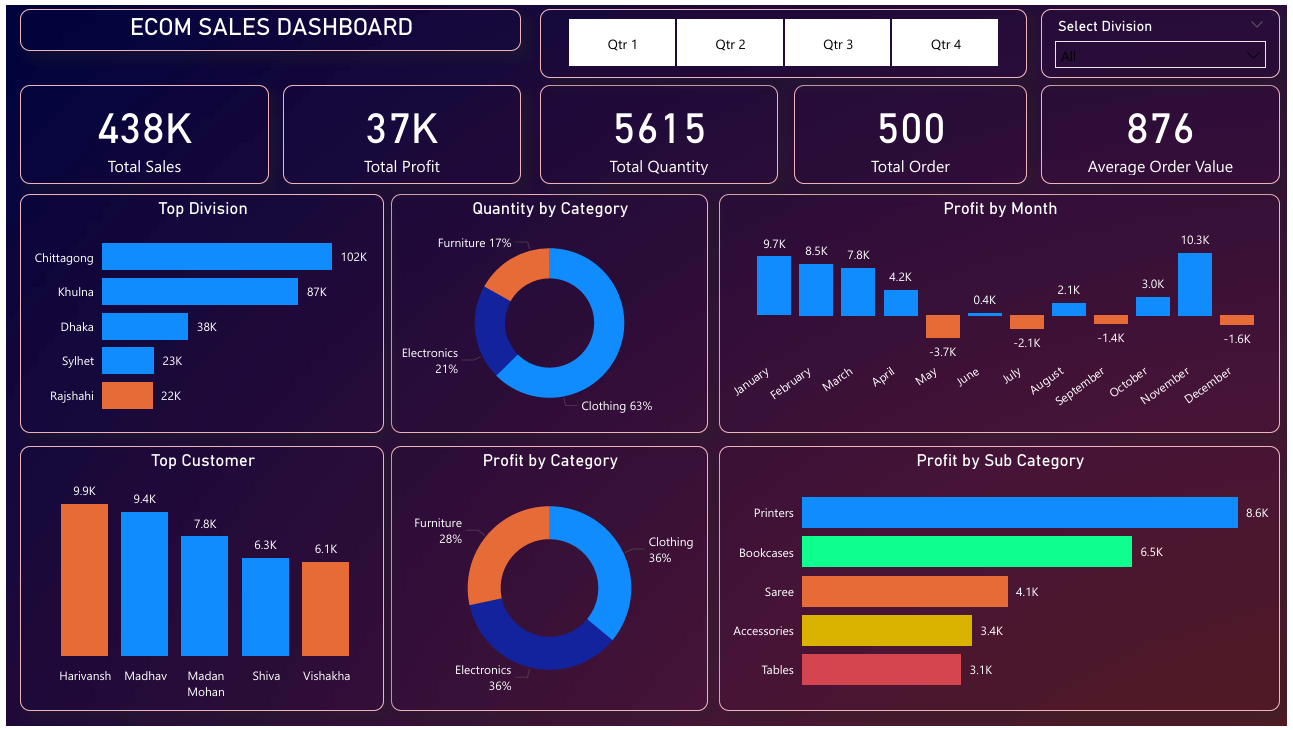

This screenshot's page, from the dashboard's own definition file:
{"tool":"powerbi","page":{"name":"Sales Dashboard","canvas":[1280,720],"ordinal":0},"visuals":[{"type":"columnChart","title":"Profit by Month","fields":{"Category":["Orders.Order Date.Variation.Date Hierarchy.Month"],"Y":["Sum(Details.Profit)"]},"box":[712,188,561.3,239.4],"z":0},{"type":"textbox","title":"ECOM SALES DASHBOARD","box":[12.6,2.9,500.9,41.8],"z":1000},{"type":"barChart","title":"Profit by Sub Category","fields":{"Category":["Details.Sub-Category"],"Y":["Sum(Details.Profit)"]},"box":[712,439.8,561.3,265.1],"z":2000},{"type":"donutChart","title":"Quantity by Category","fields":{"Category":["Details.Category"],"Y":["Sum(Details.Quantity)"]},"box":[383.9,188,317.4,239.4],"z":3000},{"type":"donutChart","title":"Profit by Category","fields":{"Category":["Details.Category"],"Y":["Sum(Details.Profit)"]},"box":[383.9,439.8,317.4,265.1],"z":4000},{"type":"card","fields":{"Values":["Sum(Details.Amount)"]},"box":[12.6,78.8,249,99.2],"z":5000},{"type":"card","fields":{"Values":["Sum(Details.Profit)"]},"box":[276.2,78.8,237.3,99.2],"z":6000},{"type":"card","fields":{"Values":["Sum(Details.Quantity)"]},"box":[533,78.8,238.3,99.2],"z":7000},{"type":"barChart","title":"Top Division","fields":{"Y":["Sum(Details.Amount)"],"Category":["Orders.Division"]},"box":[12.6,187.7,364.7,239.3],"z":8000},{"type":"columnChart","title":"Top Customer","fields":{"Y":["Sum(Details.Amount)"],"Category":["Orders.CustomerName"]},"box":[12.6,439.6,364.7,265.5],"z":9000},{"type":"card","fields":{"Values":["Count(Orders.Order ID)"]},"box":[786.9,78.8,233.4,99.2],"z":10000},{"type":"card","fields":{"Values":["_Measures.Average Order Value"]},"box":[1033.9,78.8,239.3,99.2],"z":11000},{"type":"slicer","fields":{"Values":["Orders.Order Date.Variation.Date Hierarchy.Quarter"]},"box":[533,2.9,487.3,69.1],"z":12000},{"type":"slicer","fields":{"Values":["Orders.Division"]},"box":[1033.6,2.9,239.8,68.8],"z":13000}]}

Visuals, with their boxes in screenshot pixels (x1, y1, x2, y2), scaled from the page's 1280x720 canvas onto the 1293x730 screenshot:
"Profit by Month" columnChart: [719, 191, 1286, 433]
"ECOM SALES DASHBOARD" textbox: [13, 3, 519, 45]
"Profit by Sub Category" barChart: [719, 446, 1286, 715]
"Quantity by Category" donutChart: [388, 191, 708, 433]
"Profit by Category" donutChart: [388, 446, 708, 715]
card - Sum(Details.Amount): [13, 80, 264, 180]
card - Sum(Details.Profit): [279, 80, 519, 180]
card - Sum(Details.Quantity): [538, 80, 779, 180]
"Top Division" barChart: [13, 190, 381, 433]
"Top Customer" columnChart: [13, 446, 381, 715]
card - Count(Orders.Order ID): [795, 80, 1031, 180]
card - _Measures.Average Order Value: [1044, 80, 1286, 180]
slicer - Orders.Order Date.Variation.Date Hierarchy.Quarter: [538, 3, 1031, 73]
slicer - Orders.Division: [1044, 3, 1286, 73]
